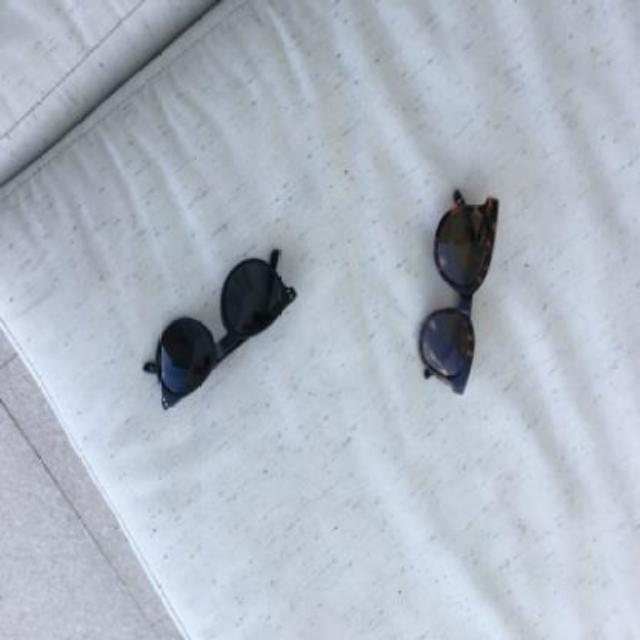glasses: (140, 247, 296, 408), (418, 188, 498, 396)
